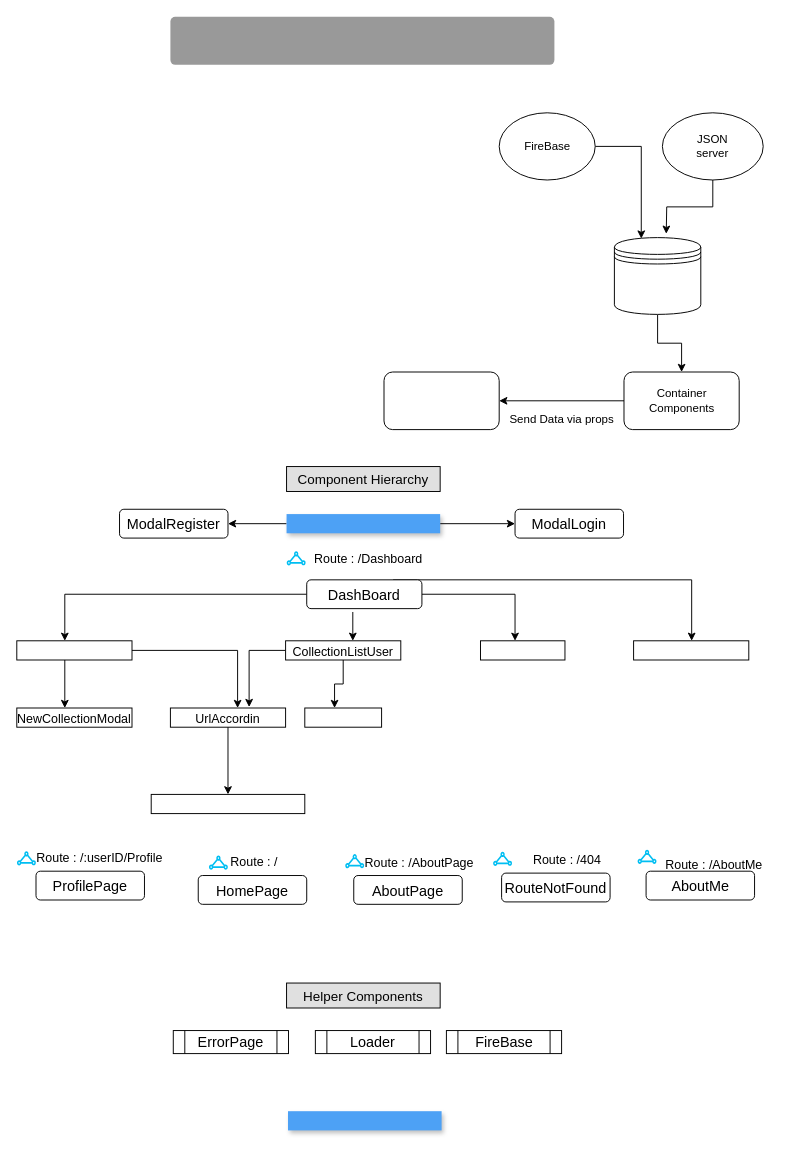
Image size: 802x1153. Some labels were removed from this diagram. Here are the shapes that lost their labels. From the top down, the centre of each, then its label:
At (362,40): "API-Panda Application Architecture".
At (657,275): "Redux Store".
At (441,400): "Presentational Components".
At (363,525): "Header".
At (74,650): "CollectionList".
At (522,650): "Quotes".
At (691,650): "ApiDisplay".
At (343,717): "SearchBar".
At (227,803): "UpdateCollectionModal".
At (365,1122): "Footer".
